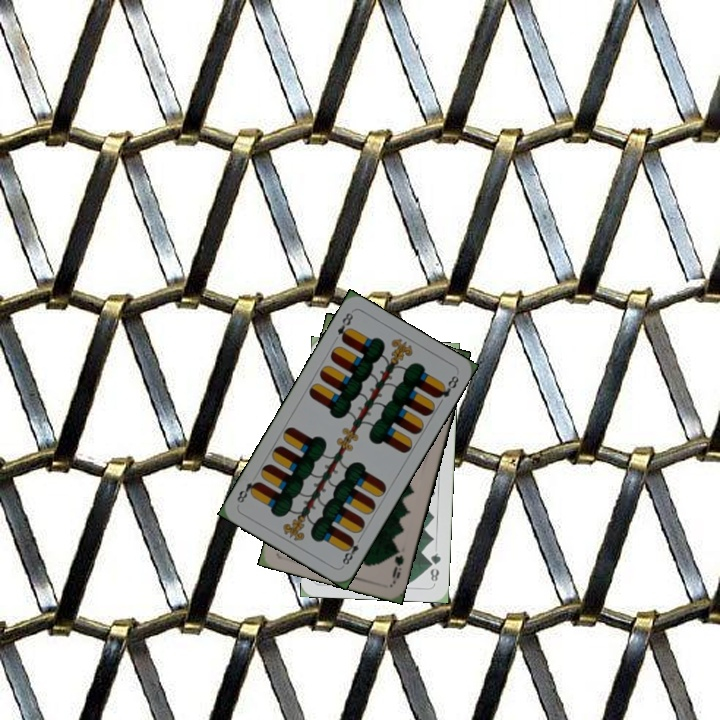E8: (338, 533, 365, 569), (333, 308, 356, 345)
G8: (425, 549, 444, 584)
G9: (388, 544, 406, 585)
